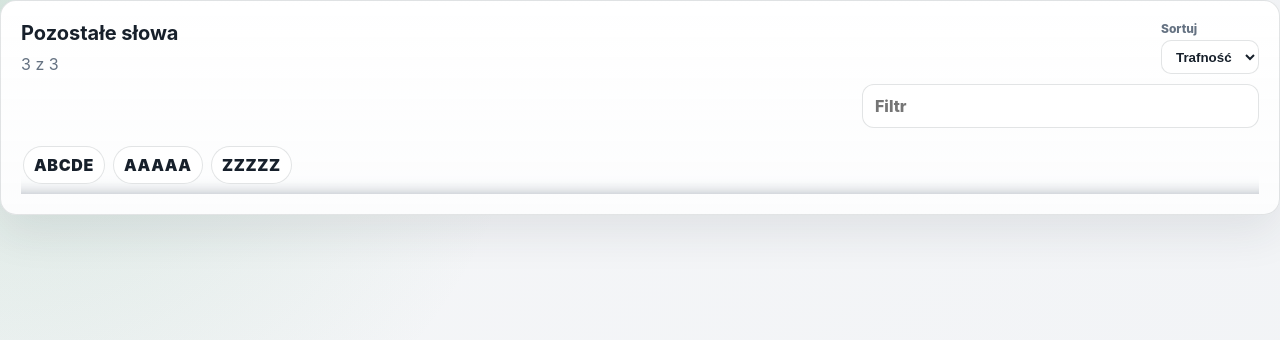
component interactions › sorts remaining candidates by relevance from the select and can switch to alphabet
Expected: the buttons read "ABCDE", "AAAAA", "ZZZZZ", in this order, [23,146,105,184]; [113,146,203,184]; [211,146,292,184]
Select "Alfabet" in the dropdown named "Sortowanie kandydatów" at (1210, 57), box [1161,40,1259,74]
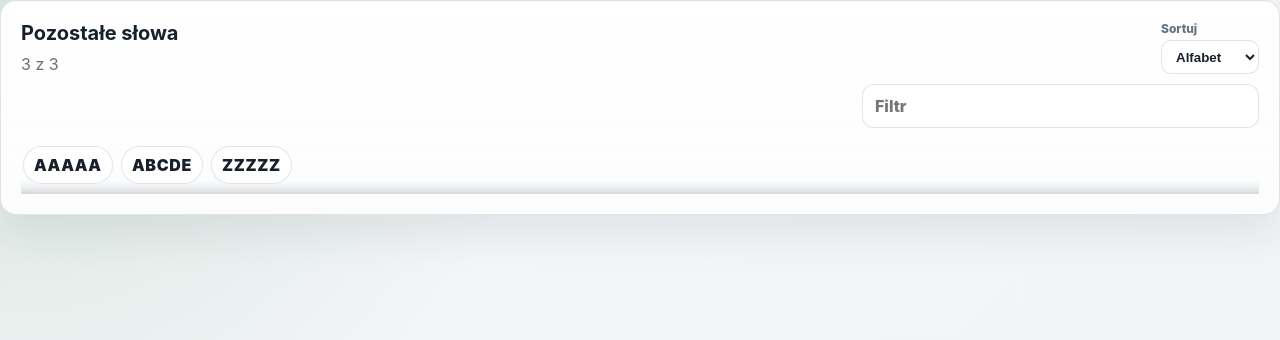
Expected: the buttons read "AAAAA", "ABCDE", "ZZZZZ", in this order, [23,146,113,184]; [121,146,203,184]; [211,146,292,184]
